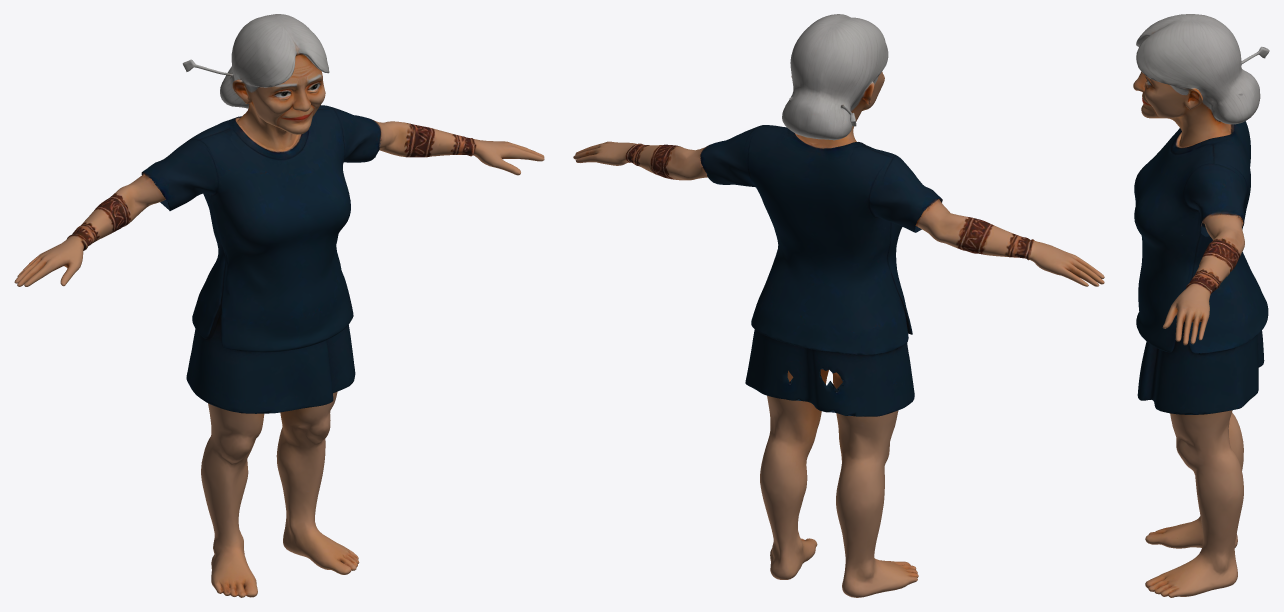
File: kula.fbx
3 renders of one model, left to right at view 1: azimuth 30°, elevation 25°; view 2: azimuth 150°, elevation 25°; view 3: azimuth 270°, elevation 25°, orthographic.
Parts seen in each view (by area): view 1: tripo_node_002ee89c; view 2: tripo_node_002ee89c; view 3: tripo_node_002ee89c.
Part boxes in pixels (bbox=[...]): tripo_node_002ee89c: bbox=[14, 14, 544, 597]; tripo_node_002ee89c: bbox=[573, 14, 1104, 597]; tripo_node_002ee89c: bbox=[1133, 14, 1269, 597].
Bounding box in the file's own units: 100 × 22.62 × 99.95.
Materials: 1 (1 with a texture image).
